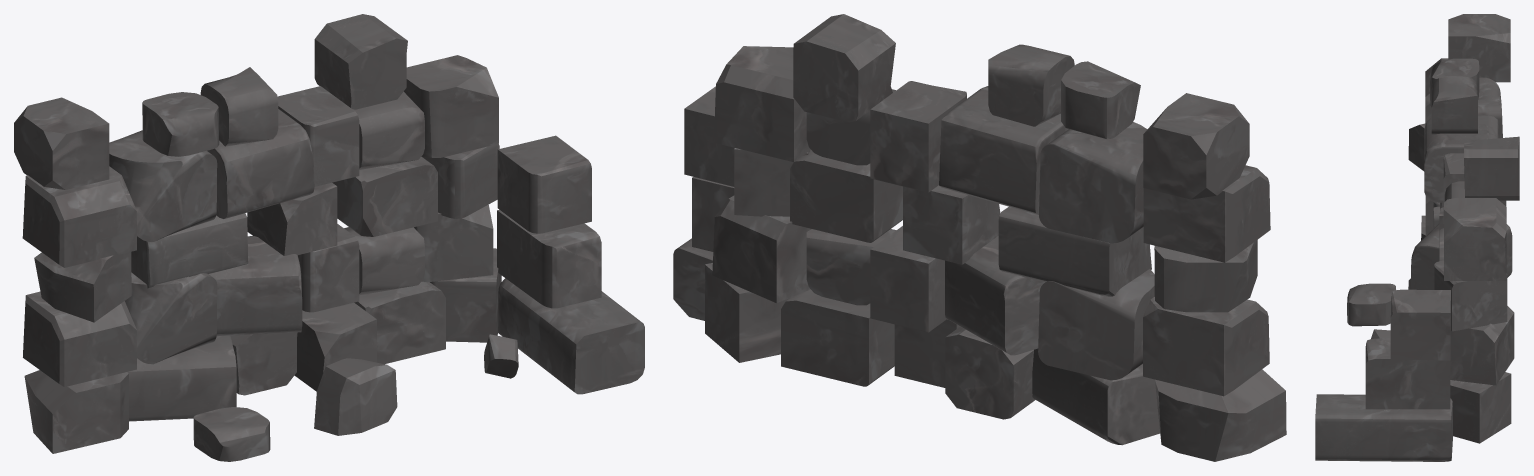
Rendered from Stones.fbx.
The picture shows the model from 3 angles, left to right: view 1: azimuth 30°, elevation 25°; view 2: azimuth 150°, elevation 25°; view 3: azimuth 270°, elevation 25°; orthographic projection. The views are drawn at different scales.
Parts seen in each view (by area): view 1: Stones; view 2: Stones; view 3: Stones.
Boxes of the visible parts, x1,y1,x2,y2 form: Stones: (14,14,644,461); Stones: (673,14,1286,461); Stones: (1315,14,1519,461).
Bounding box in the file's own units: 234 × 140 × 96.18.
Materials: 1 (1 with a texture image).
